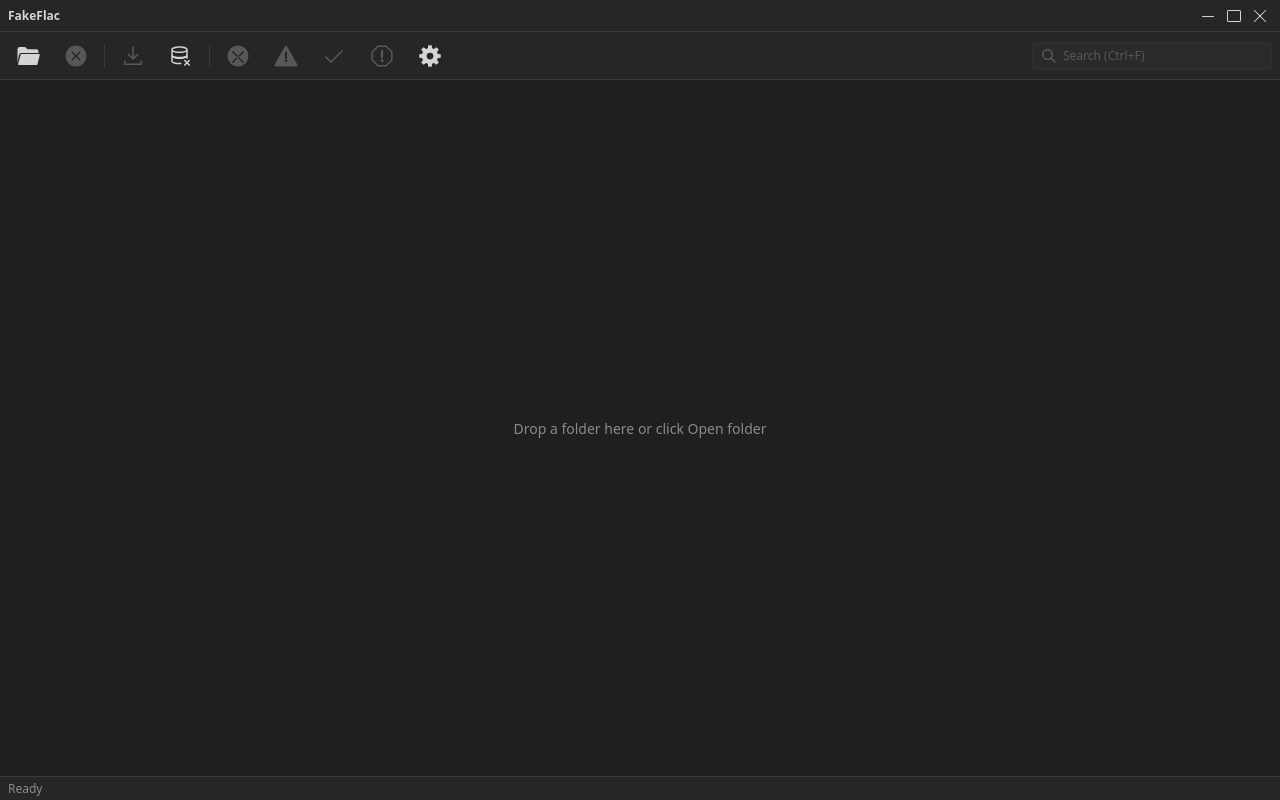
Test case: Scenario Outline: Dismissing the draft does not persist it (@RF-13) › Cancel
This screenshot has width=1280, height=800.
Expected: the element named "Main toolbar" is shown, [0,32,1279,80]
Click the button named "Settings".
click(430, 56)  # box [410,36,450,76]
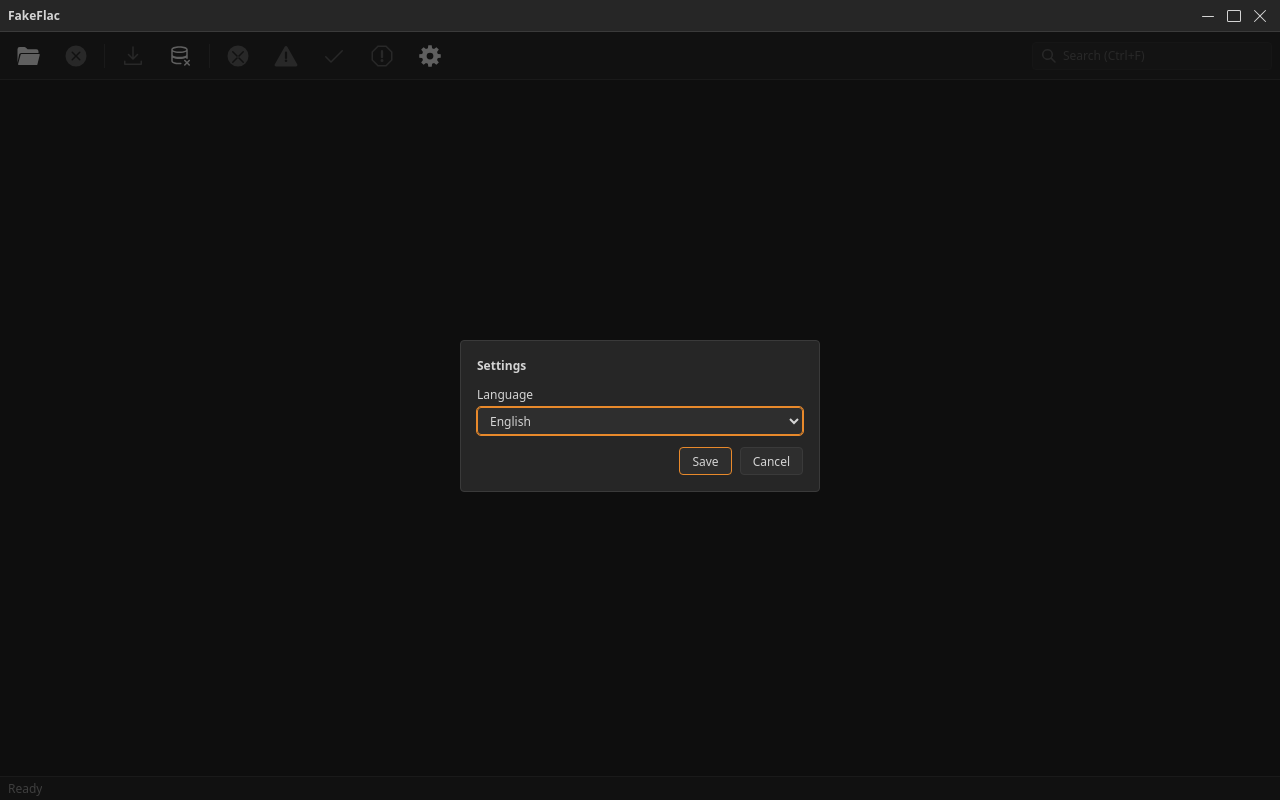
Now the dialog is shown, box [460,340,820,492]
Select "Español" in the dropdown at (640, 421), box [477,407,803,435]
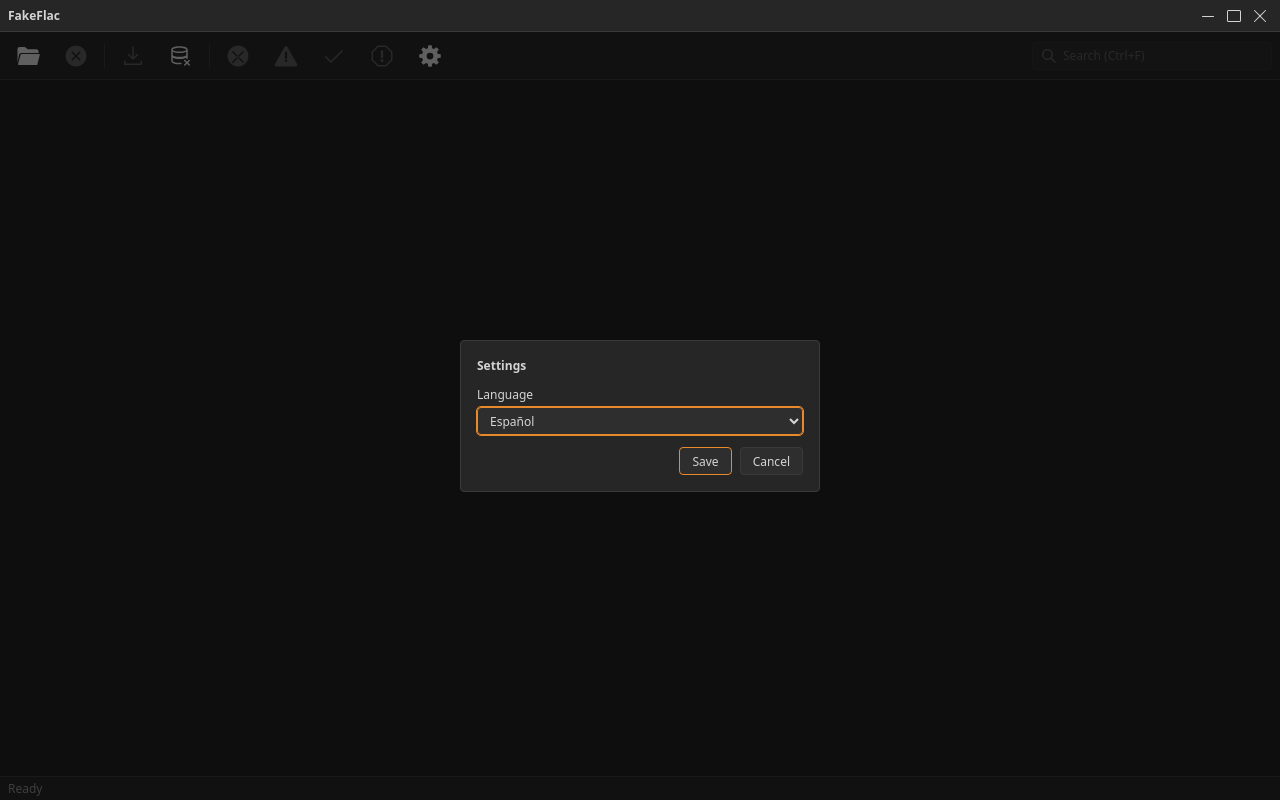
Click the button "Cancel".
click(771, 461)  # box [740,447,803,475]
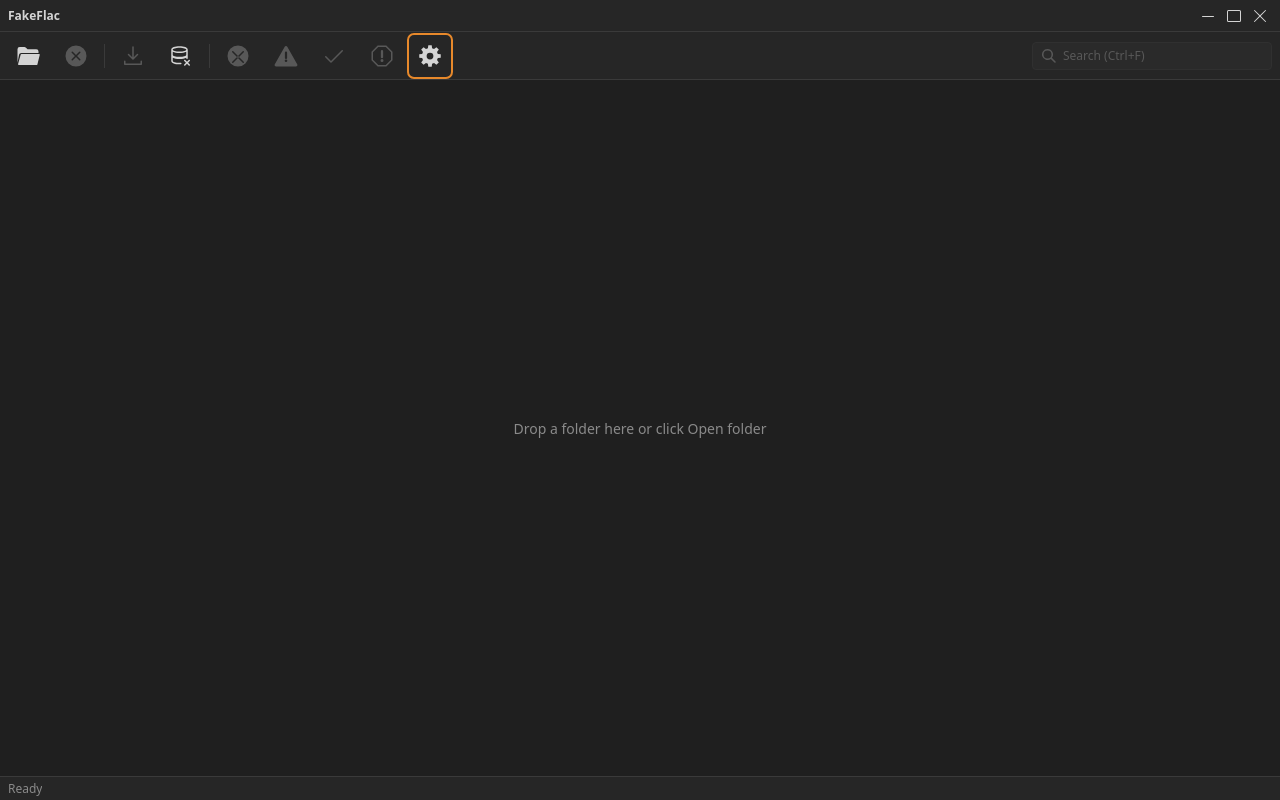
Expected: the button named "Open folder" is enabled, [8,36,48,76]
Now the dialog is gone
Click the button named "Settings".
click(430, 56)  # box [410,36,450,76]
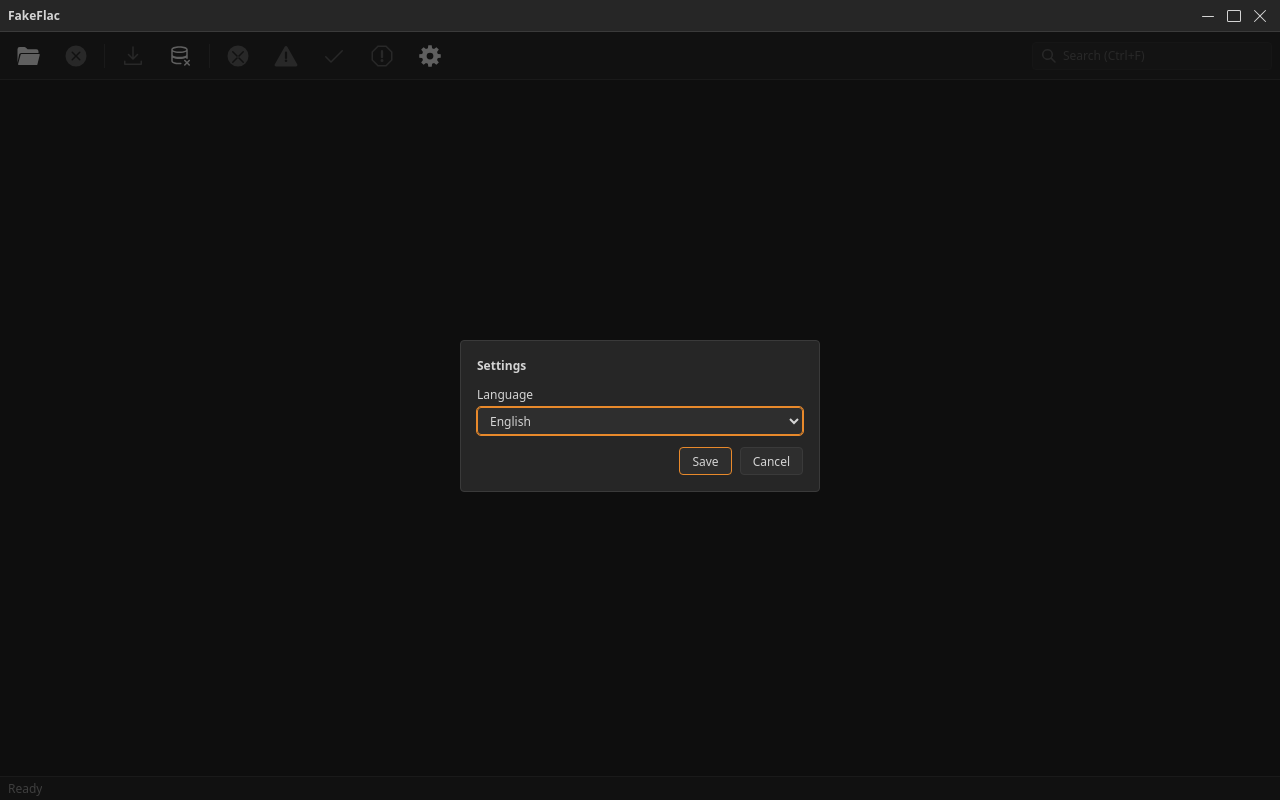
Now the dialog is shown, box [460,340,820,492]
Now the dropdown shows "English", box [477,407,803,435]
